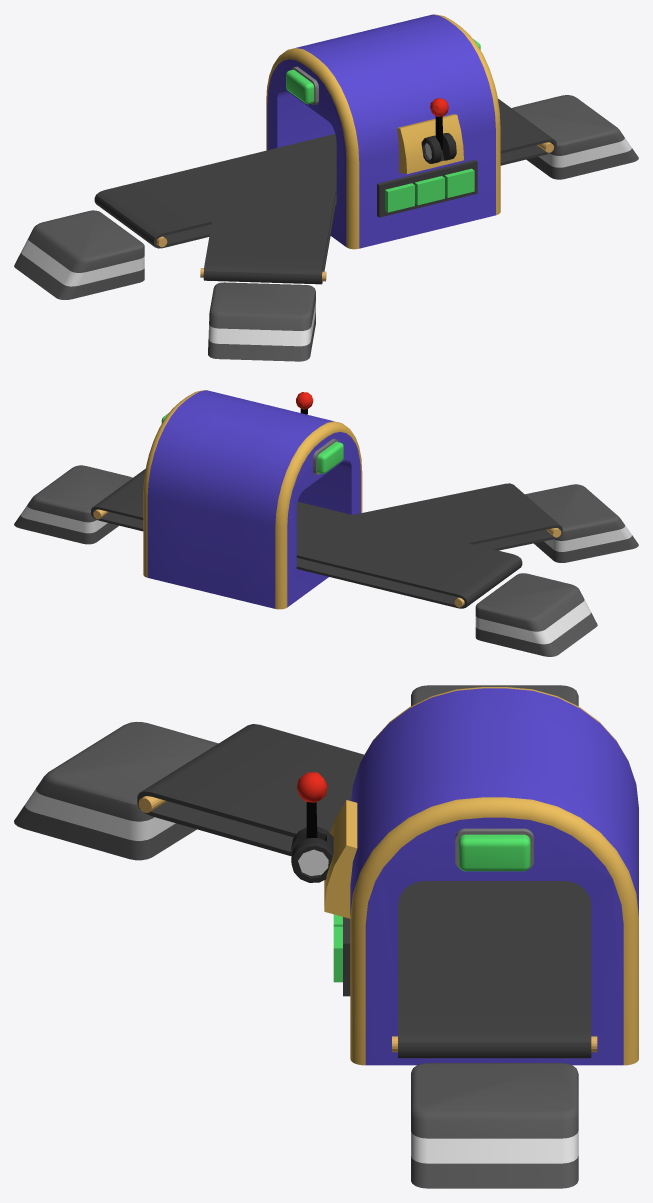
File: makina7-araba.fbx
3 views of the same model, one above another, from view 1: azimuth 30°, elevation 25°; view 2: azimuth 150°, elevation 25°; view 3: azimuth 270°, elevation 25° (orthographic). The views are drawn at different scales.
Parts seen in each view (by area): view 1: govde.007, palet.014, stack.012, palet.006, stack.003, kol; view 2: govde.007, palet.014, stack.012, palet.006, stack.003; view 3: govde.007, palet.014, stack.012, palet.006, stack.003, kol.
Boxes of the visible parts, x1,y1,x2,y2 form: govde.007: (266,14,500,249); palet.014: (94,98,556,248); stack.012: (14,95,638,299); palet.006: (200,191,335,284); stack.003: (208,282,315,361); kol: (430,98,448,149); govde.007: (143,390,362,609); palet.014: (91,468,522,608); stack.012: (14,465,597,656); palet.006: (353,483,562,550); stack.003: (525,484,638,562); govde.007: (291,687,638,1065); palet.014: (392,881,597,1058); stack.012: (411,685,578,1188); palet.006: (137,724,363,856); stack.003: (14,722,218,860); kol: (297,772,327,838).
Size of the model in its own units: 761 by 200 by 433.
